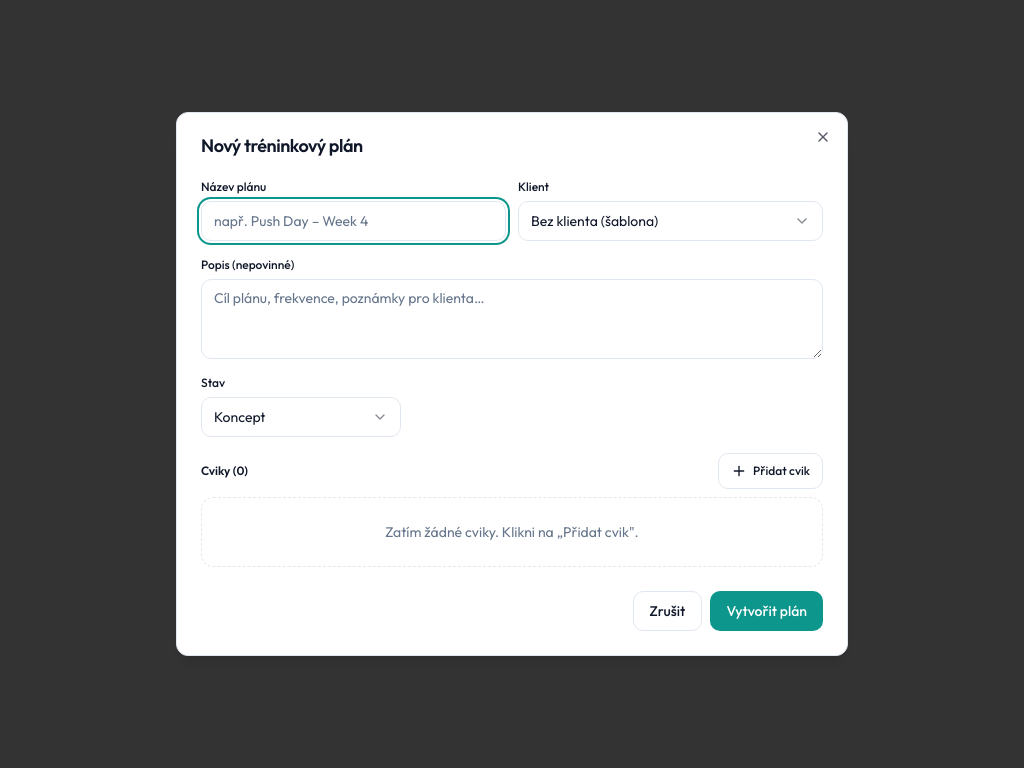
PlanEditorDialog unsaved-changes guard › Escape with changes asks too
Type "Síla – týden 1" into the field at coordinates (354, 221), box x1=201 y1=201 x2=506 y2=241
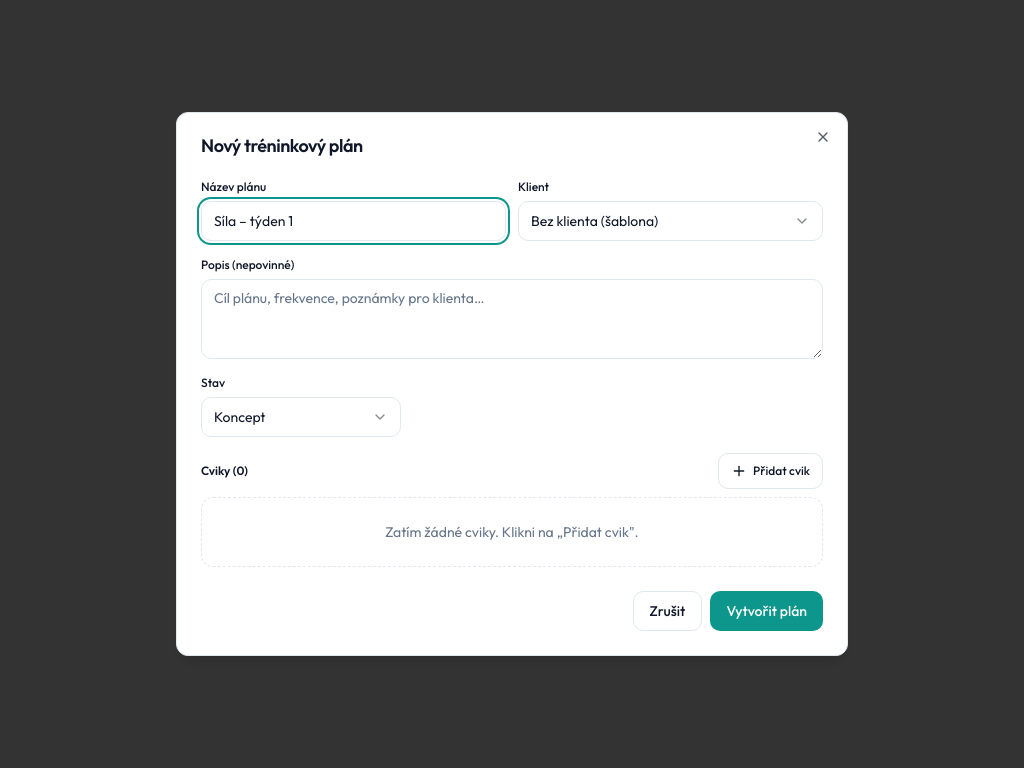
Press Escape in the dialog, box x1=176 y1=112 x2=848 y2=656
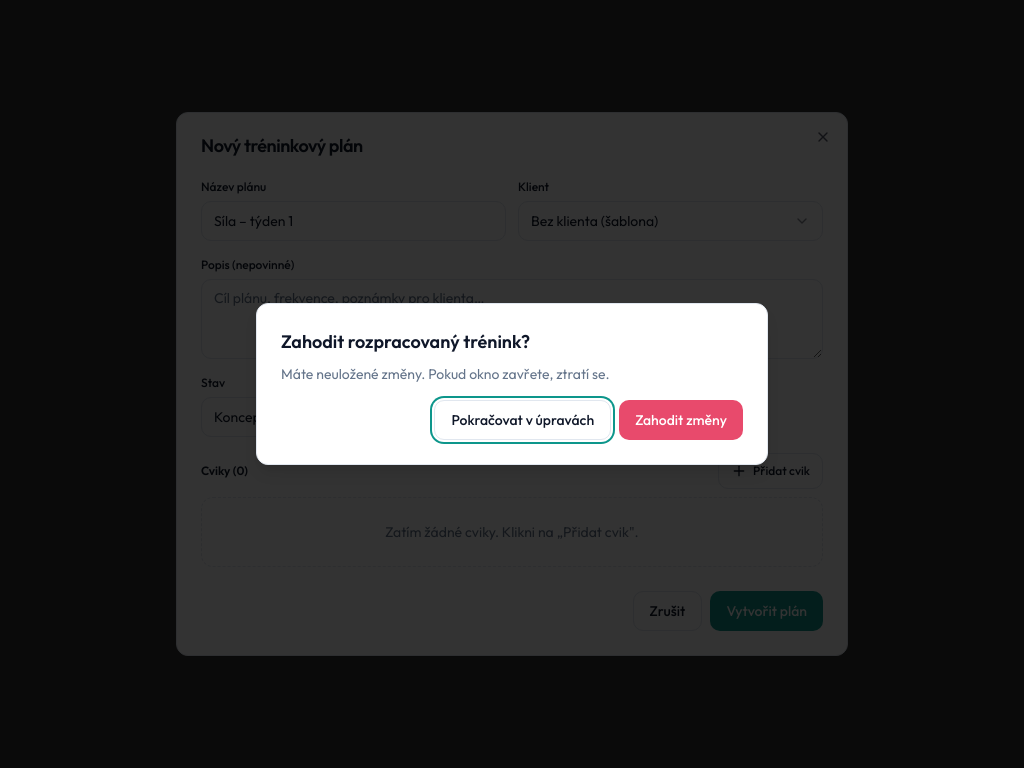
Now the heading "Zahodit rozpracovaný trénink?" is shown, box x1=281 y1=330 x2=530 y2=353
